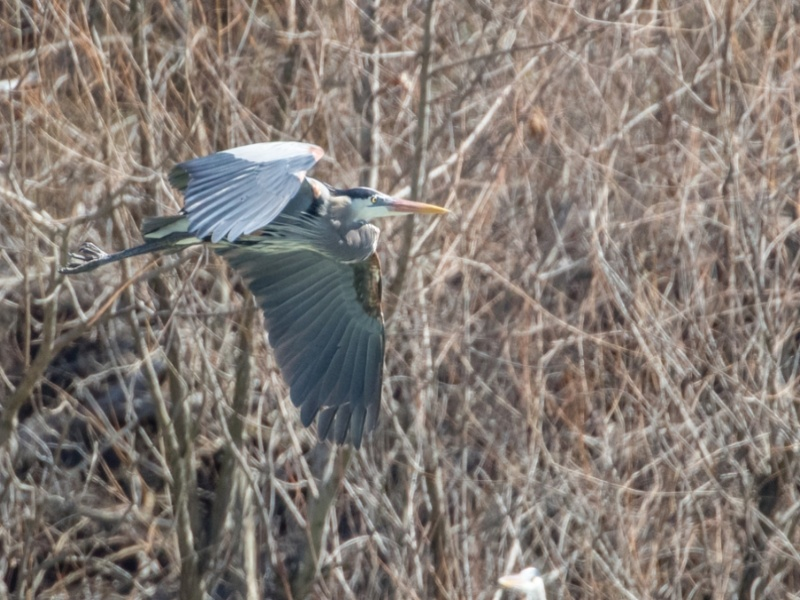heron: (60, 131, 450, 459)
